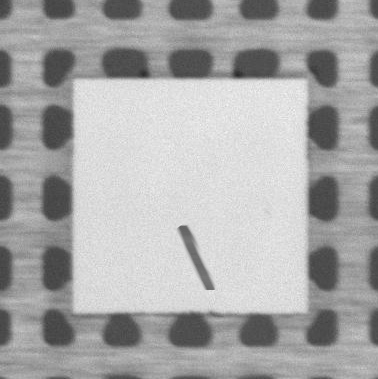DIE_INK: (176, 223, 218, 294)
